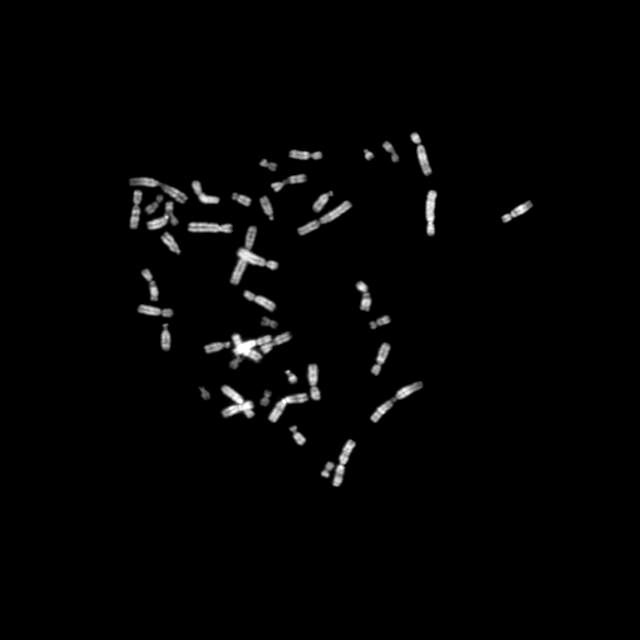chromosome: (371, 381, 423, 424), (298, 200, 352, 236), (230, 226, 258, 284), (127, 178, 187, 205), (268, 392, 307, 422), (332, 440, 356, 488), (222, 384, 254, 418), (410, 132, 432, 176), (236, 248, 279, 270), (228, 335, 262, 361), (233, 334, 271, 354), (244, 289, 276, 311), (501, 200, 532, 222), (261, 332, 291, 354), (141, 268, 159, 304), (192, 180, 220, 203), (271, 173, 305, 191), (372, 344, 391, 376), (222, 399, 254, 416), (308, 364, 322, 401), (138, 304, 174, 318), (160, 232, 182, 254), (130, 189, 142, 229), (312, 190, 333, 212), (426, 190, 436, 236), (290, 148, 322, 162), (188, 222, 232, 232), (357, 282, 371, 312), (288, 424, 306, 446), (260, 195, 274, 221), (383, 141, 399, 163), (165, 202, 179, 226), (147, 214, 168, 230), (160, 323, 172, 351), (204, 341, 231, 353), (146, 194, 162, 213), (232, 192, 250, 208), (370, 315, 390, 329), (228, 354, 244, 370), (260, 316, 278, 330), (259, 158, 276, 172), (260, 390, 272, 408), (321, 462, 333, 478), (198, 386, 210, 400), (286, 368, 296, 384), (362, 149, 374, 161)
